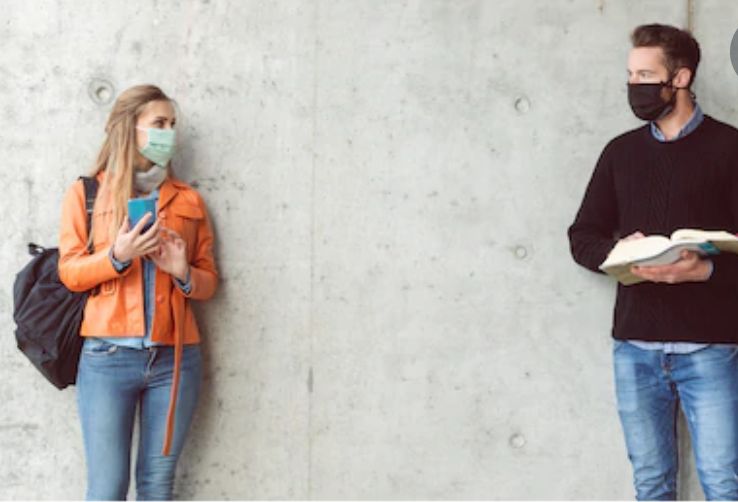Good: (60, 23, 724, 466)
